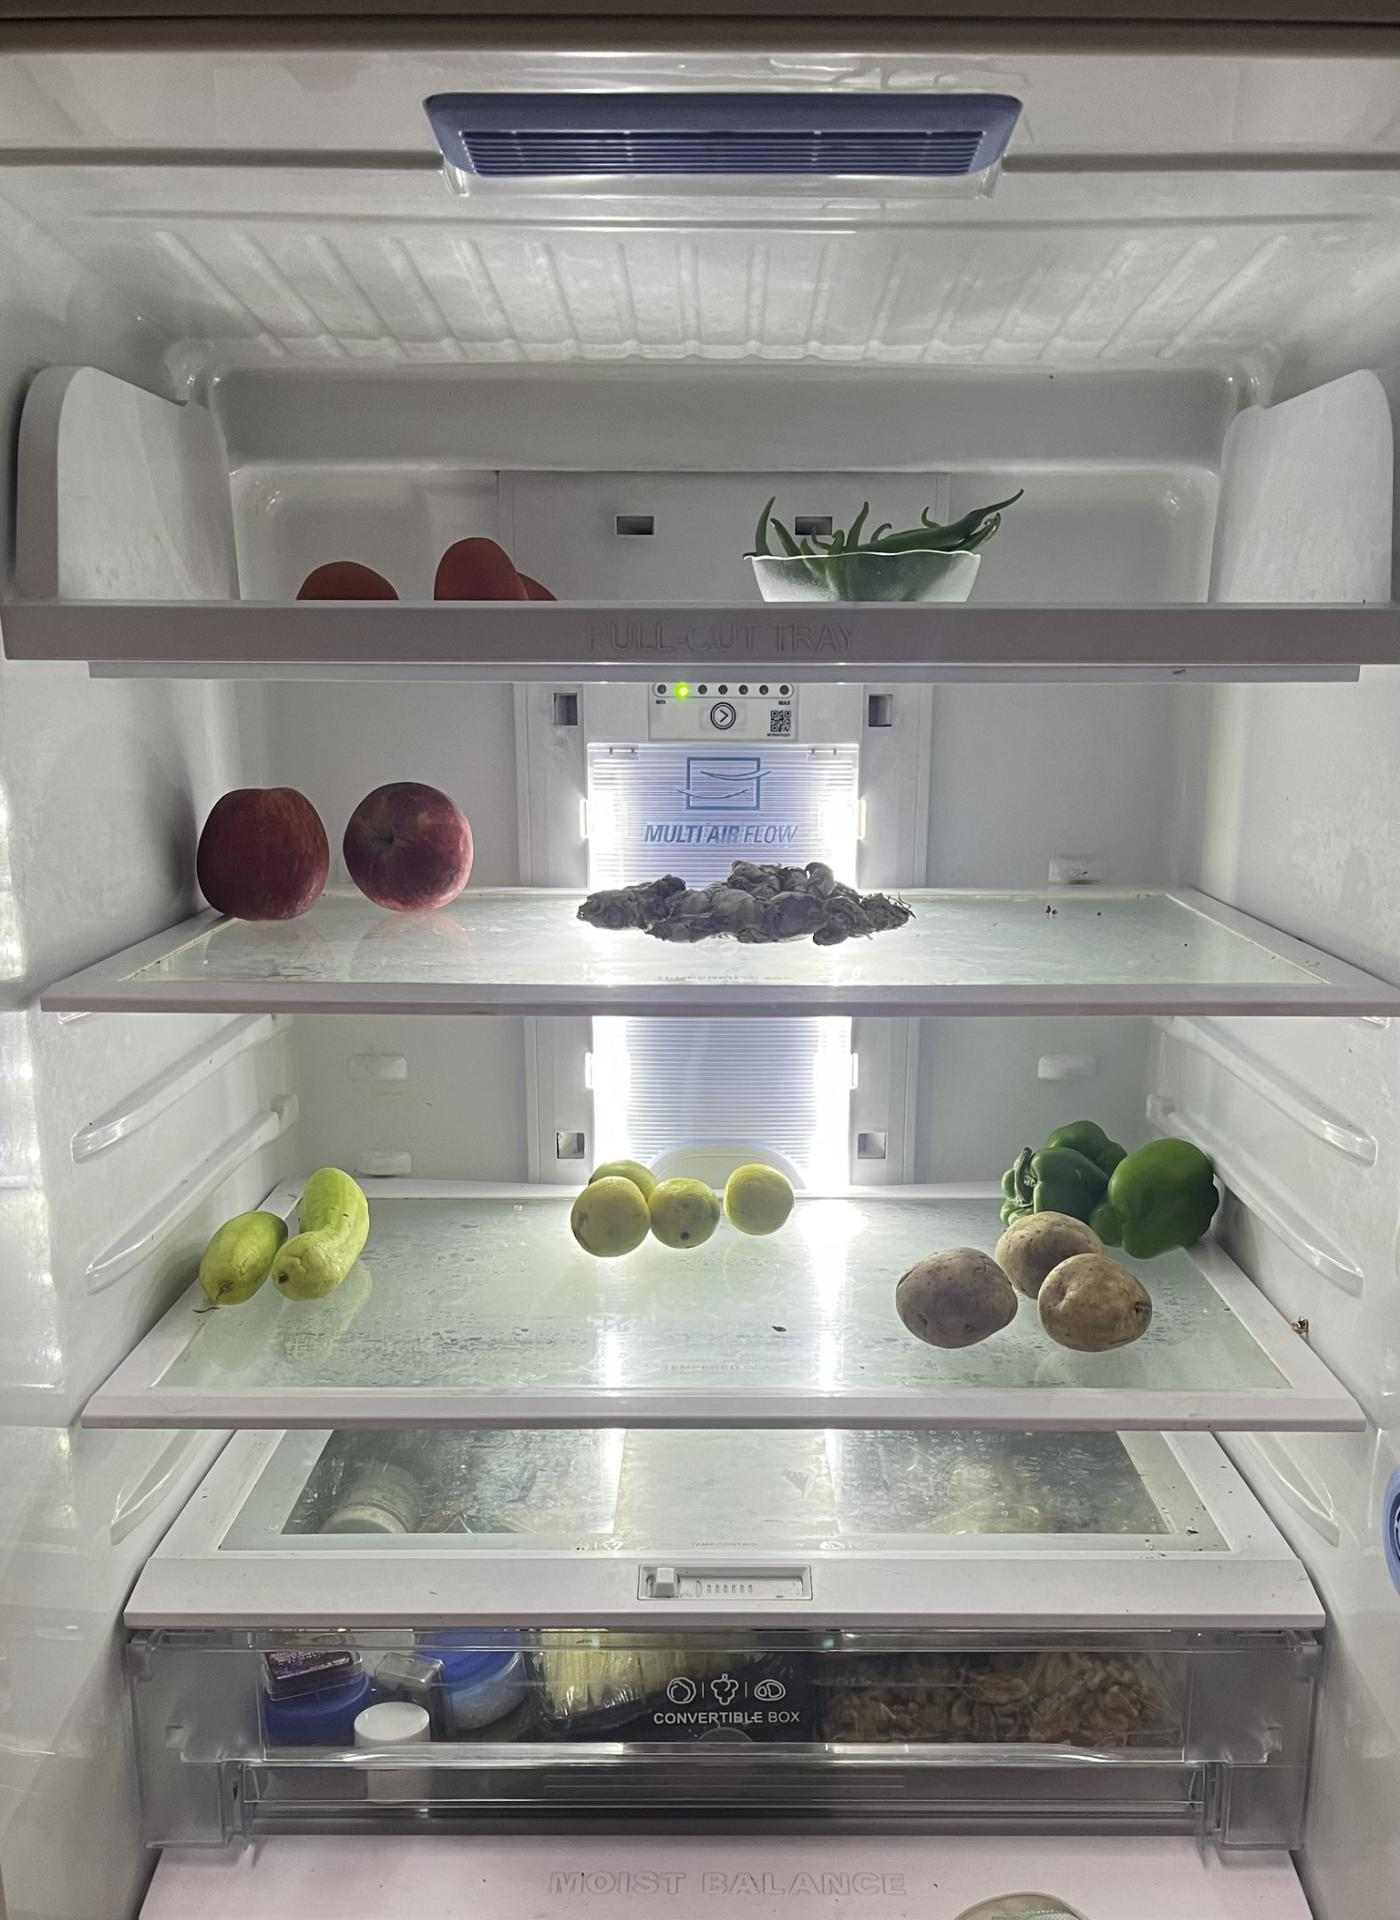apple: (195, 777, 332, 923), (346, 775, 482, 914)
capsicum: (1003, 1121, 1224, 1252)
chillies: (747, 477, 1023, 592)
cucumber: (176, 1163, 380, 1319)
ginger: (583, 851, 920, 945)
lemon: (565, 1139, 807, 1263)
potato: (884, 1206, 1163, 1349)
tomato: (285, 541, 555, 613)
